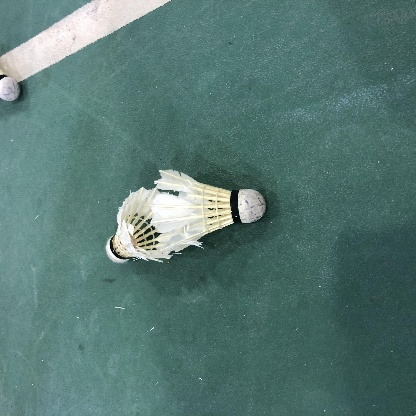ball_single: (150, 169, 266, 253), (106, 188, 174, 263), (0, 67, 21, 101)
